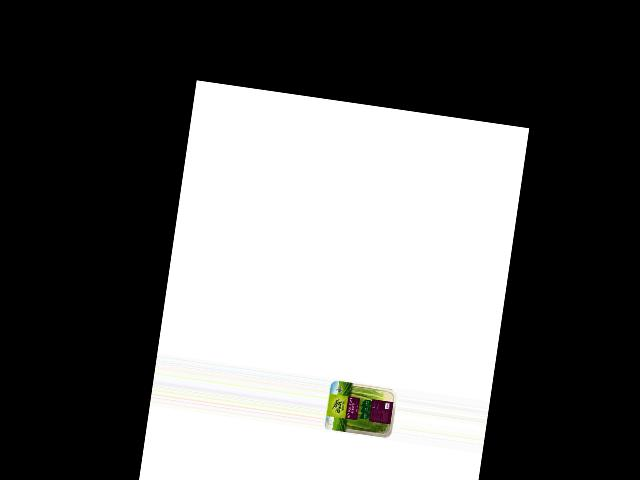lettuce: (329, 379, 398, 438)
